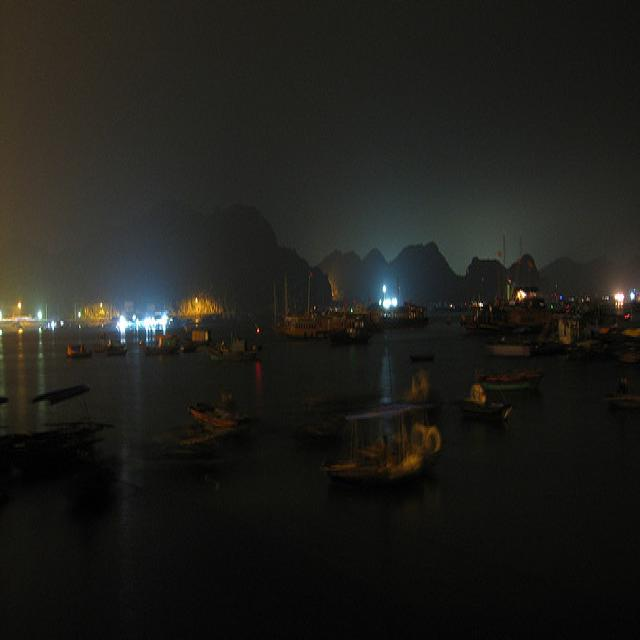Boat: (337, 395, 443, 509), (0, 384, 89, 486), (167, 383, 252, 478), (270, 291, 381, 348), (455, 373, 517, 463), (491, 342, 565, 406), (461, 287, 566, 332), (583, 326, 631, 403), (386, 292, 446, 343), (46, 335, 102, 363), (133, 327, 185, 351), (99, 336, 135, 364)
